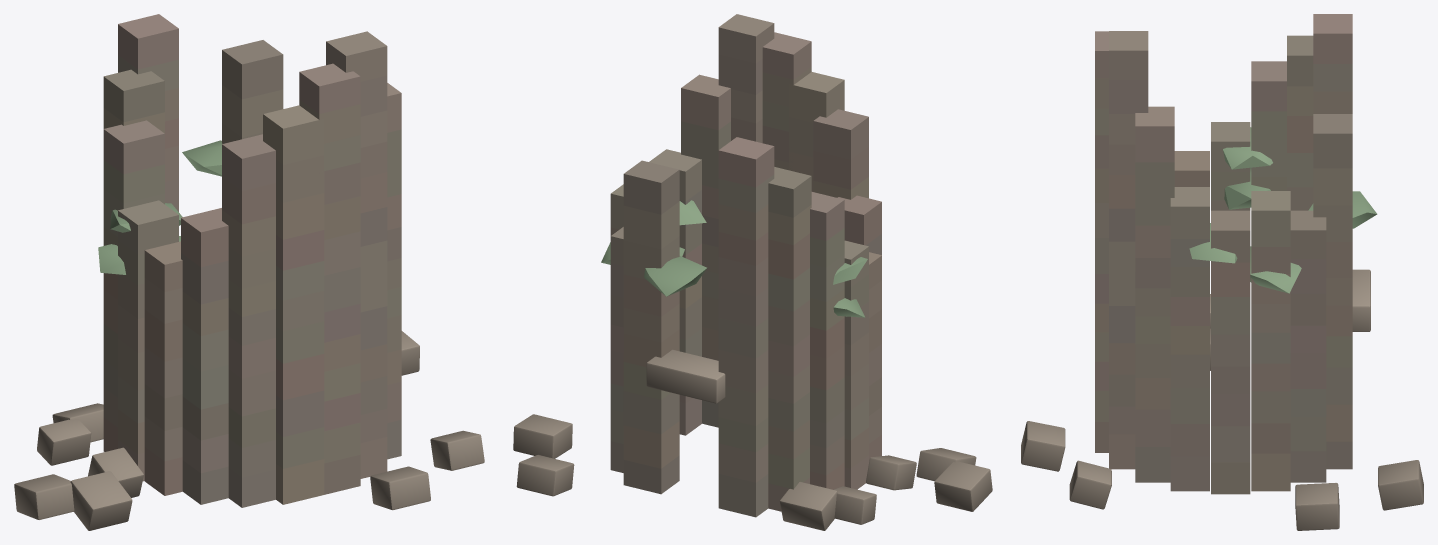
The model's file is sea_lookout.gltf.
3 views of the same model, side by side, from view 1: azimuth 30°, elevation 25°; view 2: azimuth 150°, elevation 25°; view 3: azimuth 270°, elevation 25° (orthographic). The views are drawn at different scales.
Visible parts, largest first — view 1: Body; view 2: Body; view 3: Body.
Part boxes in pixels (x1,y1,x2,y2): Body: [14, 14, 484, 530]; Body: [513, 14, 992, 530]; Body: [1021, 14, 1423, 530].
Size of the model in its own units: 10.23 by 9.51 by 8.19.
